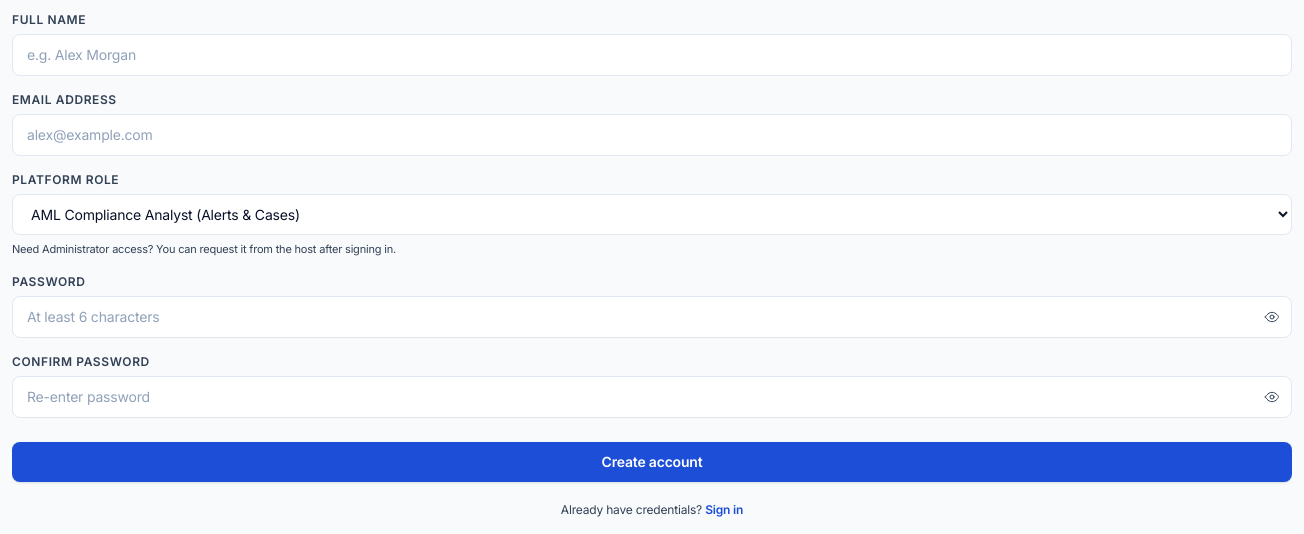
Test: SignUpForm › shows check your email notice when signup requires confirmation
Type "Jane Doe" into the field labelled "Full name".
click(652, 55); type("Jane Doe")  # box [12,34,1292,76]
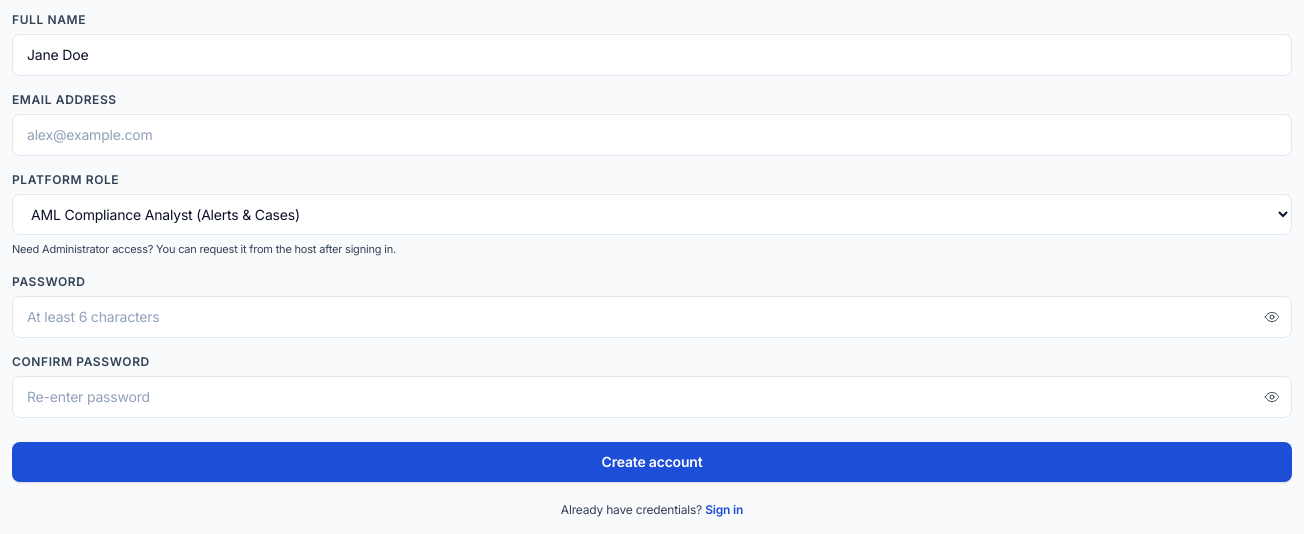
Type "jane@example.com" into the field labelled "Email address".
click(652, 135); type("jane@example.com")  # box [12,114,1292,156]
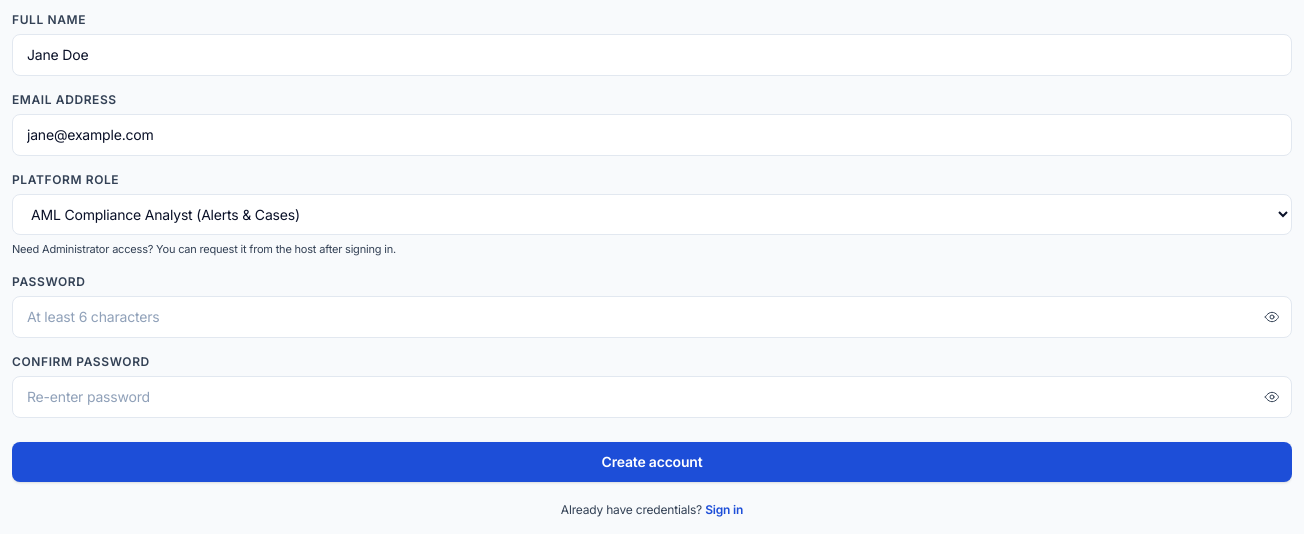
Type "securepassword123" into the password field labelled "Password".
click(652, 316); type("securepassword123")  # box [12,296,1292,338]
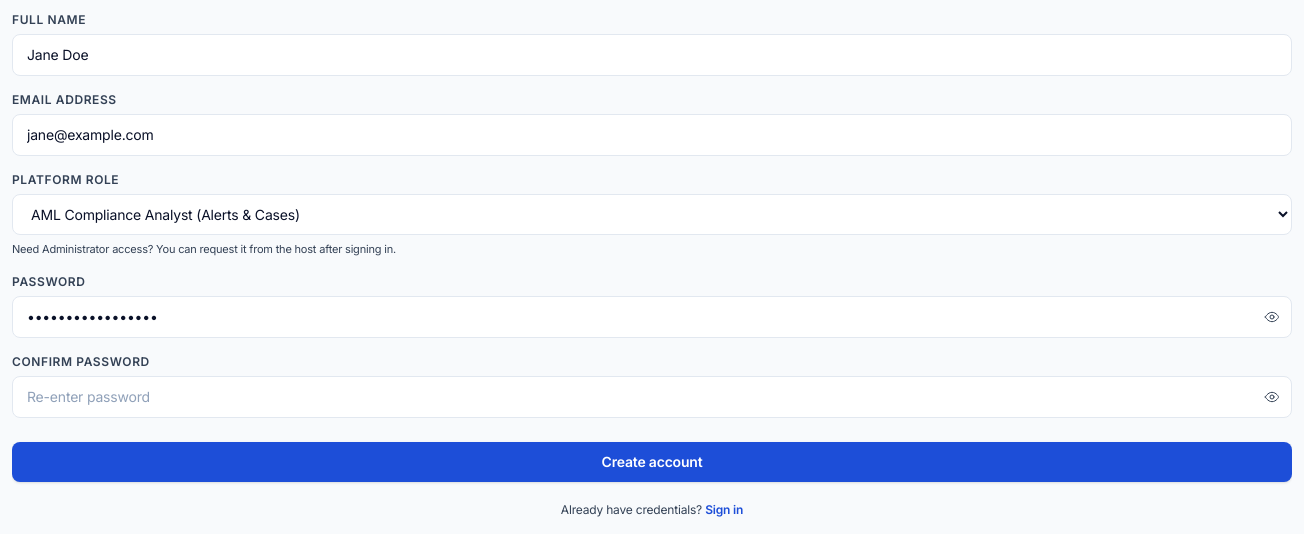
Type "securepassword123" into the password field labelled "Confirm password".
click(652, 396); type("securepassword123")  # box [12,376,1292,418]
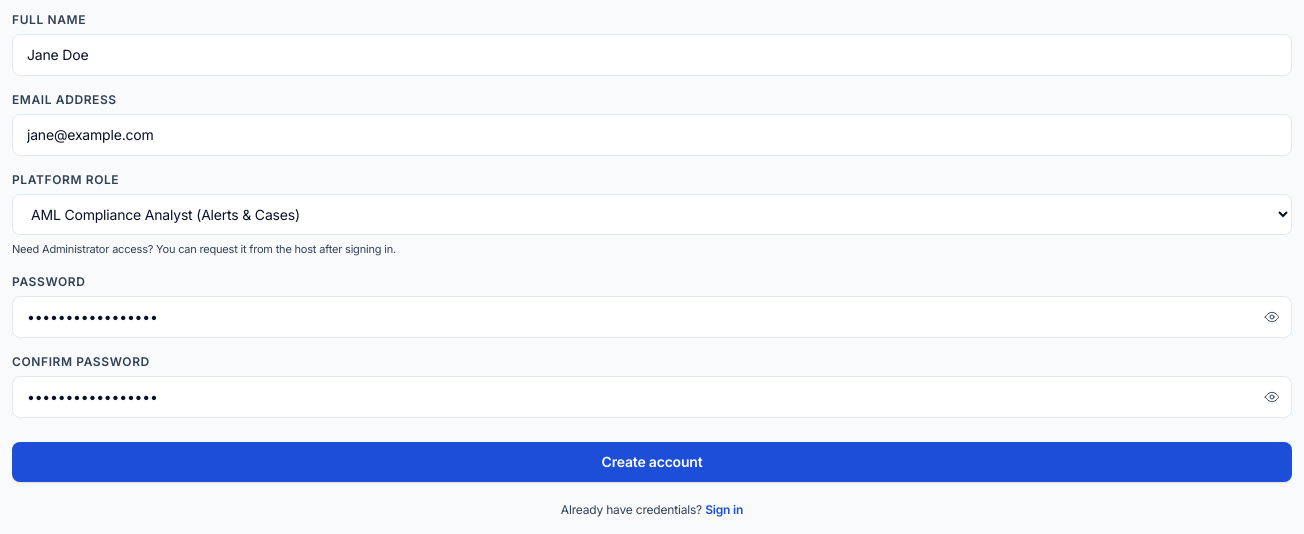
Click the button "Create account".
click(652, 462)  # box [12,442,1292,482]
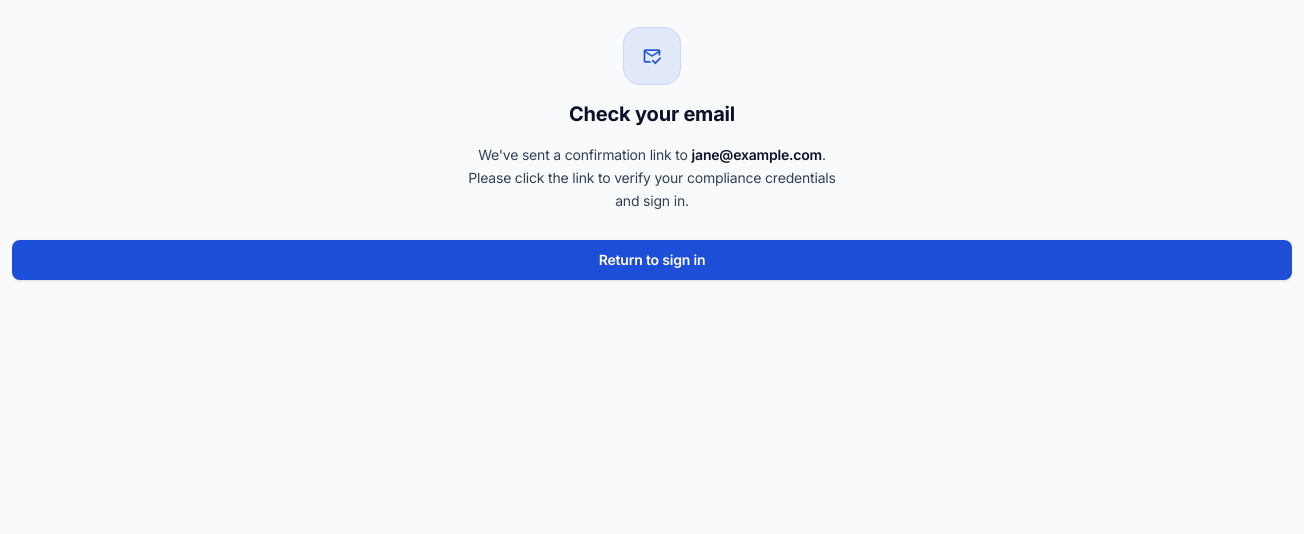
Check: the heading "Check your email" is shown, box [569,102,735,126]
Check: the text "We've sent a confirmation link to" is shown, box [478,146,688,163]
